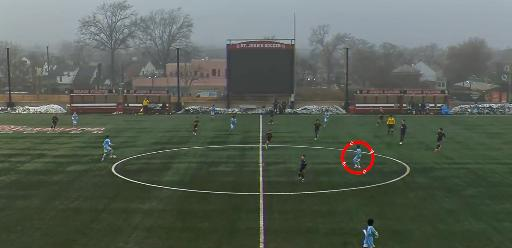highlight_overlay: (341, 140, 375, 176)
